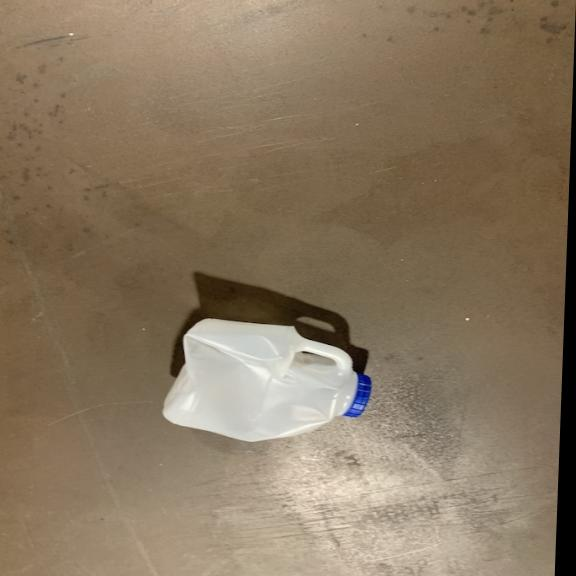Plastik: (153, 313, 381, 446)
